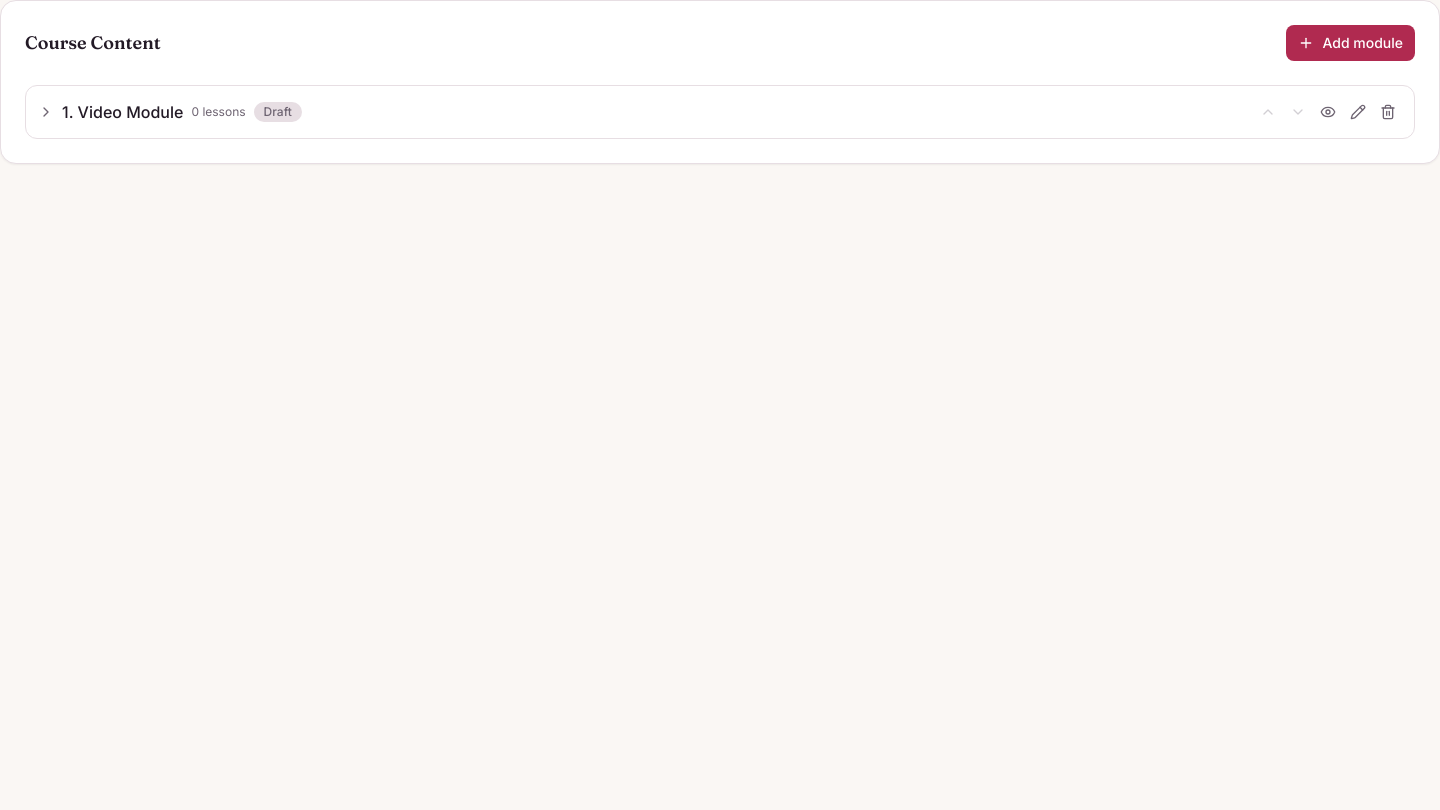
Scenario: CourseContentManager › adds a video lesson with the dynamic form
Click the button with aria-label "Expand module Video Module".
click(131, 112)  # box [38, 100, 1246, 124]
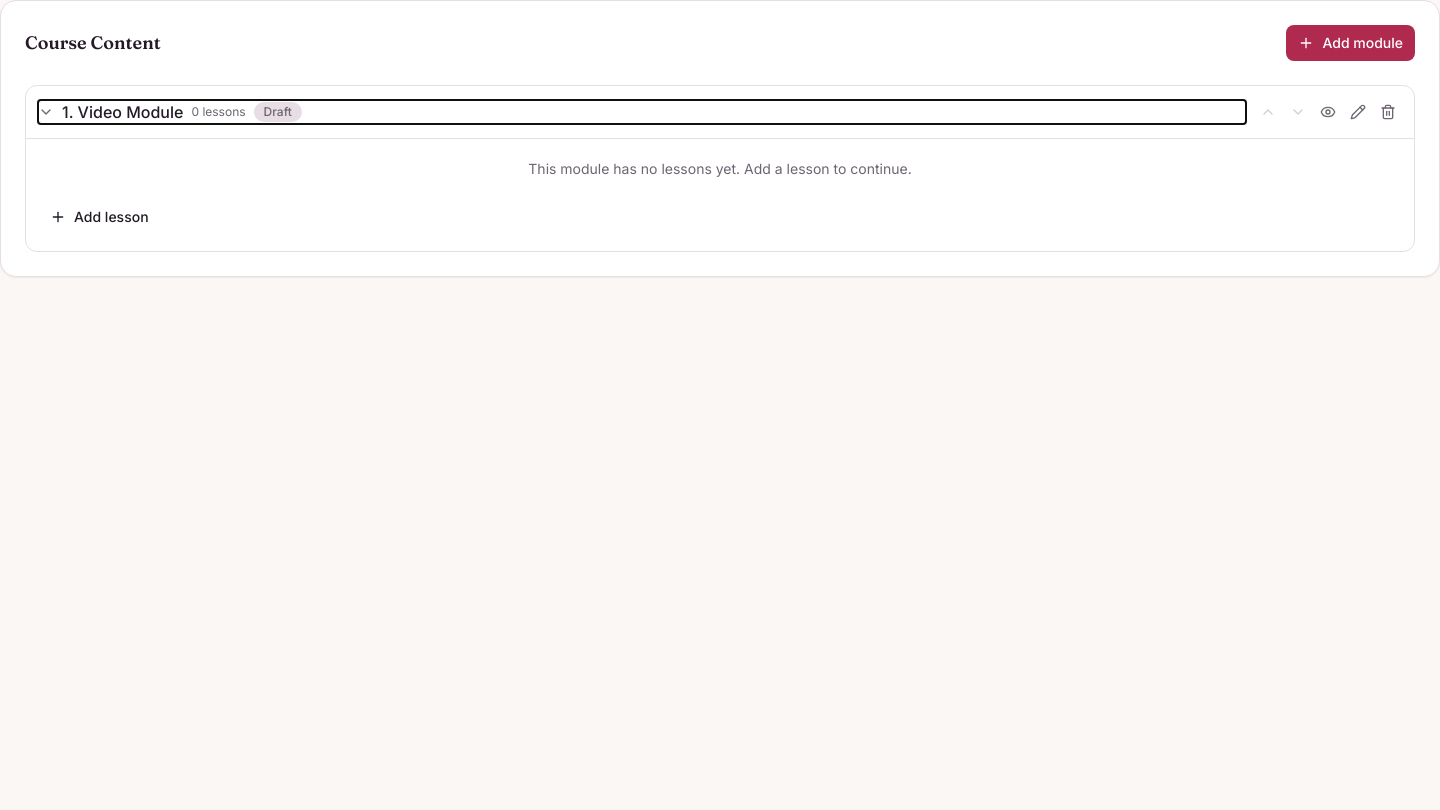
Click the button "Add lesson".
click(99, 217)  # box [38, 199, 161, 235]
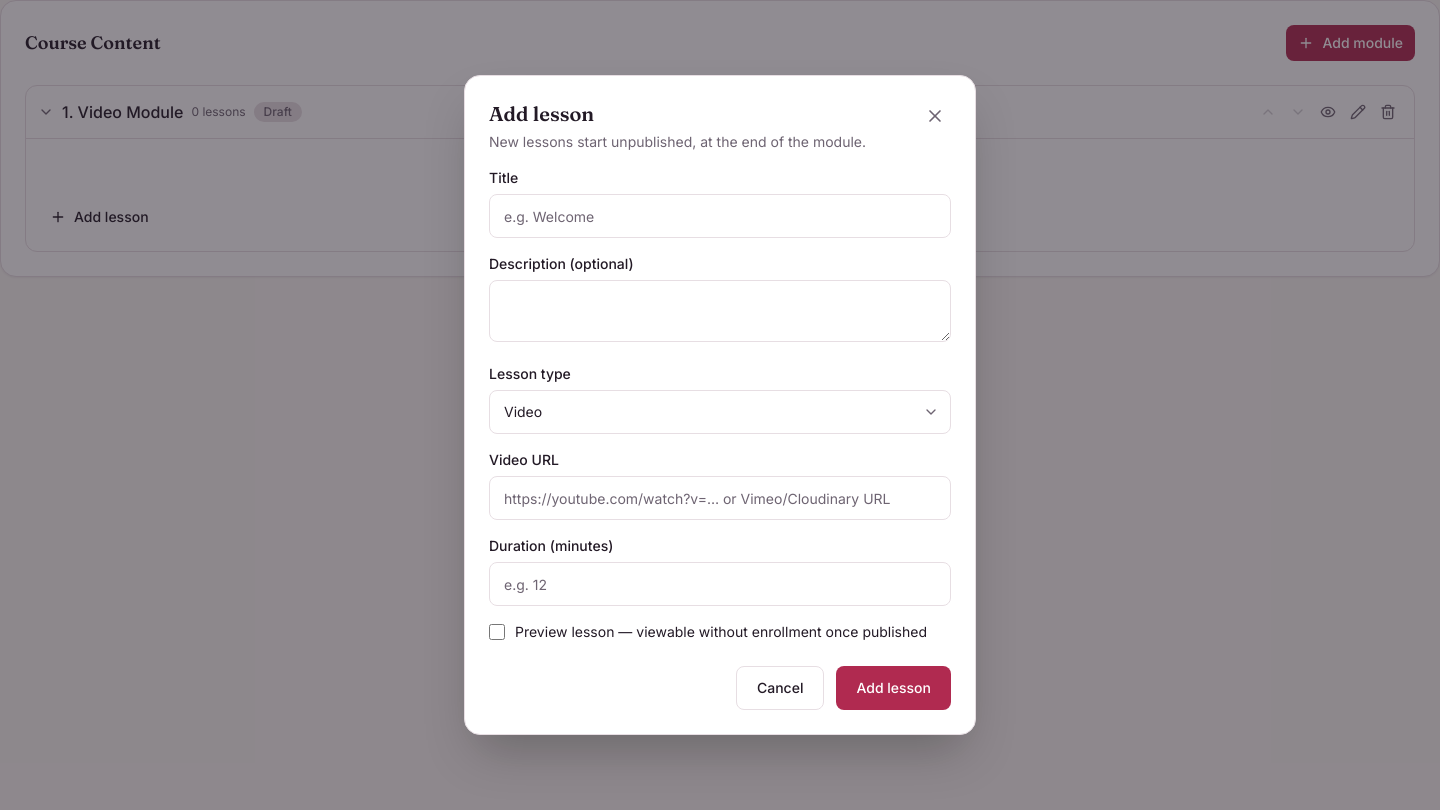
Check: the field labelled "Video URL" is shown, box [489, 476, 951, 520]
Type "Intro Video" into the field labelled "Title".
click(720, 216); type("Intro Video")  # box [489, 194, 951, 238]
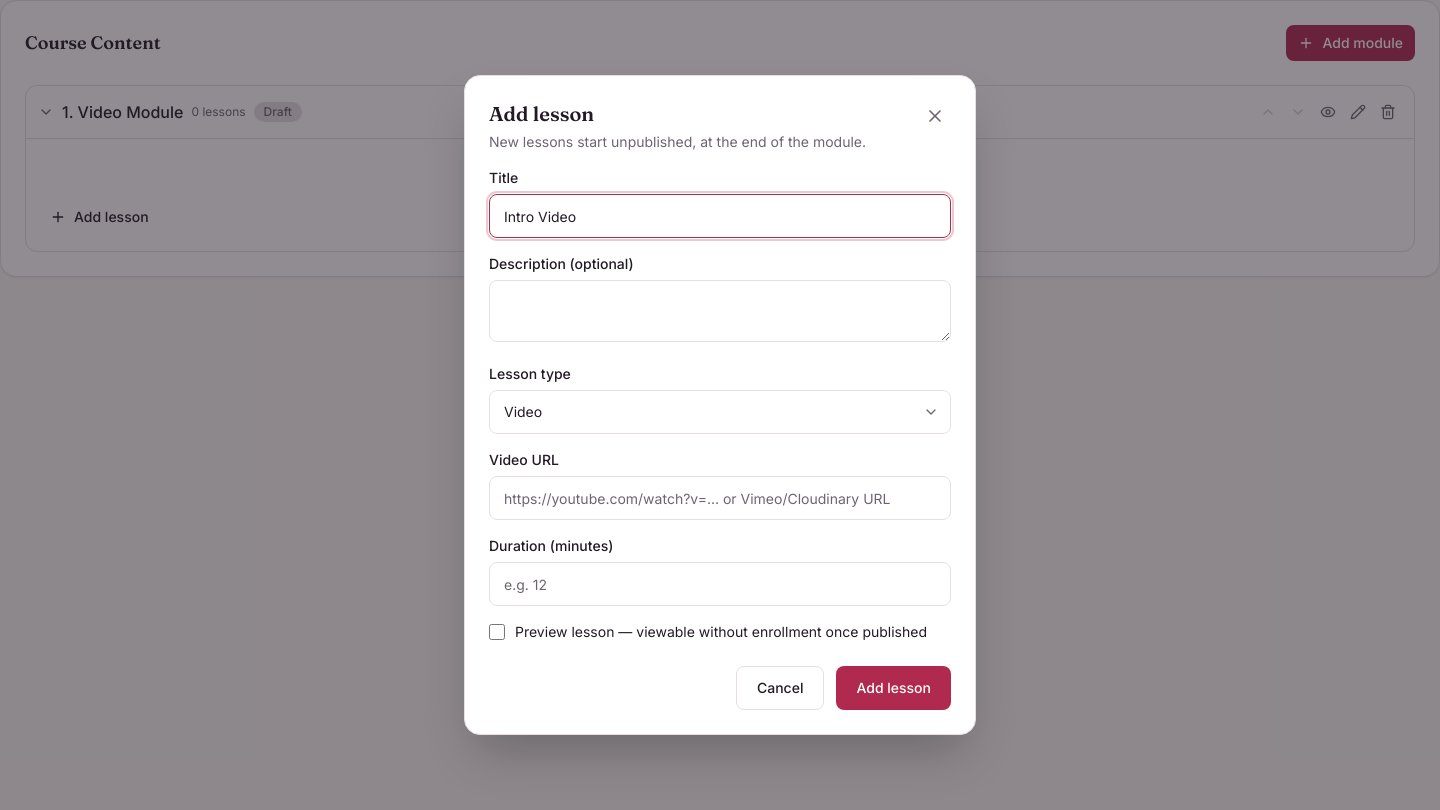
Type "https://youtube.com/watch?v=abc" into the field labelled "Video URL".
click(720, 498); type("https://youtube.com/watch?v=abc")  # box [489, 476, 951, 520]
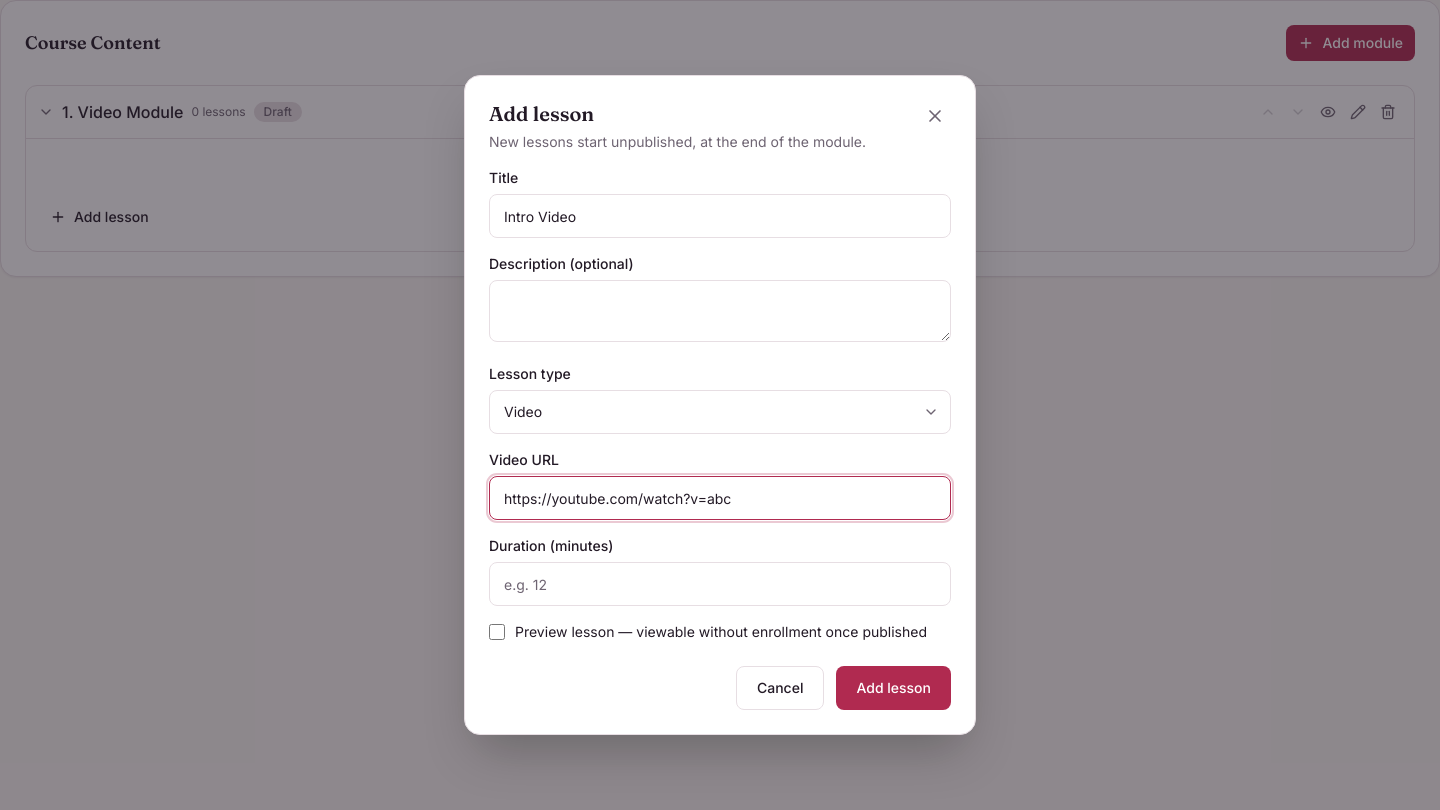
Click the button "Add lesson".
click(894, 688)  # box [836, 666, 951, 710]
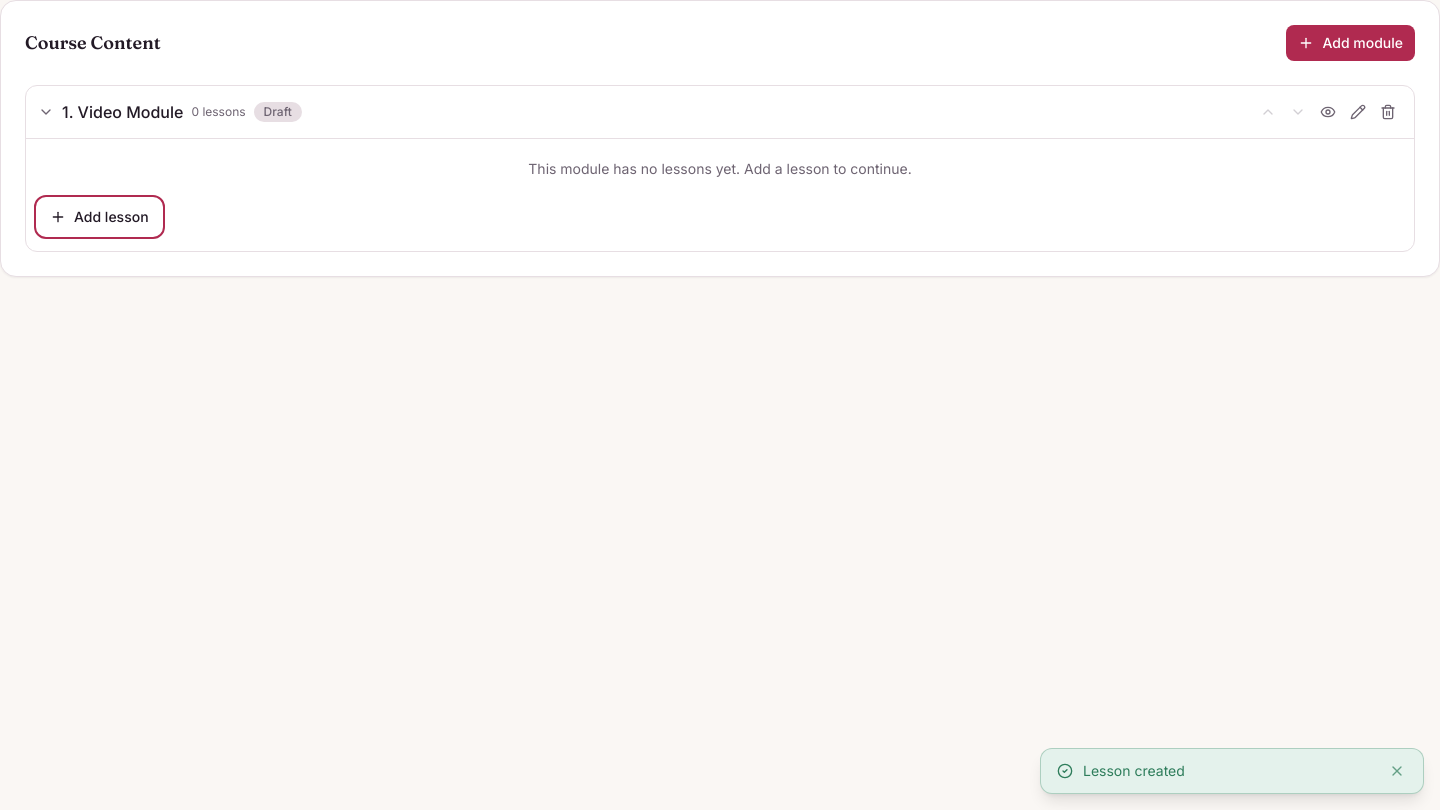
Check: the text "Lesson created" is shown, box [1083, 762, 1185, 779]
